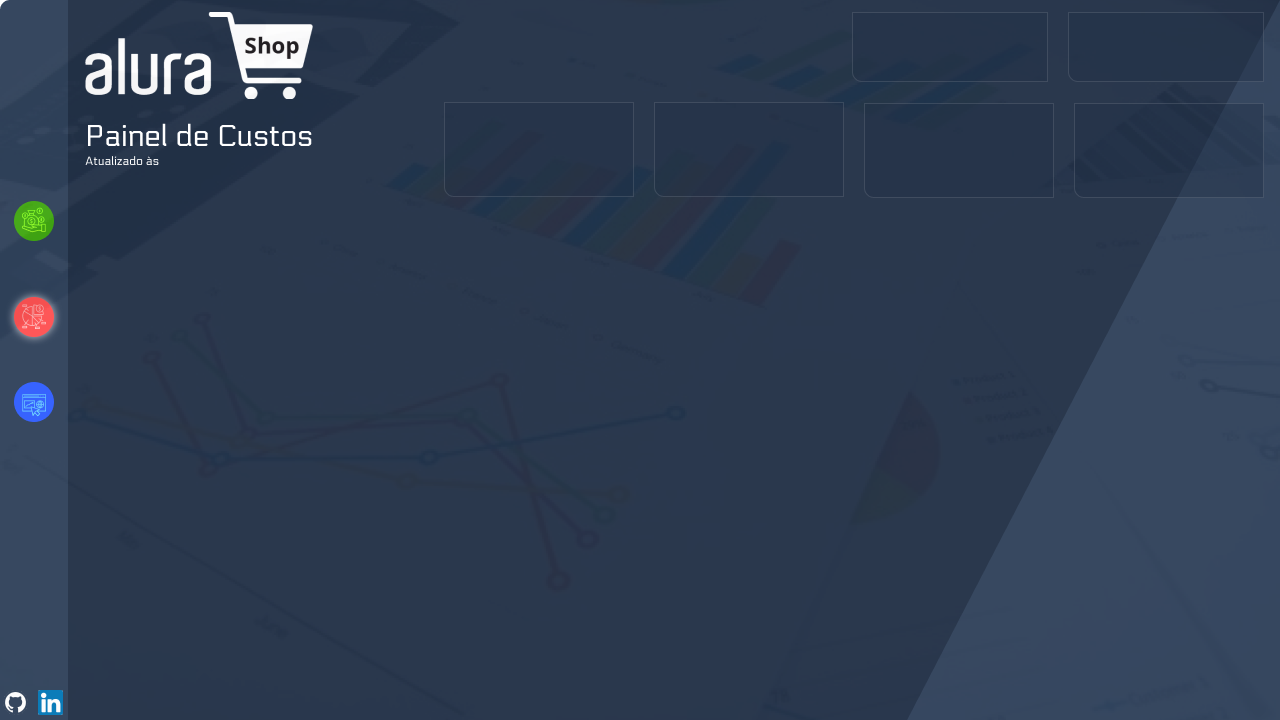

The dashboard page shown, as its layout file describes it:
{"tool":"powerbi","page":{"name":"Custos","canvas":[1280,720],"ordinal":2},"visuals":[{"type":"card","fields":{"Values":["Medidas.R$ Custo por Aquisição"]},"box":[445.4,102.3,186.5,91.4],"z":0},{"type":"card","fields":{"Values":["Medidas.R$ Custo por Clique"]},"box":[655.4,101.4,186.5,91.4],"z":1000},{"type":"card","fields":{"Values":["Medidas.R$ Custo Campanha"]},"box":[864.5,101.4,186.5,91.4],"z":2000},{"type":"card","fields":{"Values":["Medidas.R$ Custo Ticket Médio"]},"box":[1075.4,102.3,186.5,91.4],"z":3000},{"type":"slicer","fields":{"Values":["Idade_Genero.Gênero"]},"box":[1064.8,10,195.3,69.7],"z":4000},{"type":"clusteredColumnChart","title":"Custo do Ticket Médio por Dispositivo","fields":{"Category":["Dispositivos.Plataforma do dispositivo","Dispositivos.Plataforma","Dispositivos.Colocação"],"Y":["Medidas.R$ Custo Ticket Médio"]},"box":[482.3,218.9,380.9,481.3],"z":5000},{"type":"donutChart","title":"Custo da Campanha por Gênero","fields":{"Category":["Idade_Genero.Gênero"],"Y":["Medidas.R$ Custo Campanha"]},"box":[87.2,219.8,369.5,480.4],"z":6000},{"type":"TornadoChart1452517688218","title":"Custo do Ticket Médio por Faixa Etária","fields":{"Category":["Idade_Genero.Idade"],"Values":["Medidas.R$ Custo por Aquisição"]},"box":[884.9,218.9,380.9,481.3],"z":7000},{"type":"image","title":"Home","box":[7.6,10.4,55,46.4],"z":8000},{"type":"shape","box":[15.2,197.1,40.7,46.4],"z":9000},{"type":"shape","box":[14.2,378,40.7,46.4],"z":10000},{"type":"slicer","fields":{"Values":["Dispositivos.Plataforma do dispositivo"]},"box":[851.7,9.6,199.7,69.4],"z":11000},{"type":"image","box":[226.7,424.4,89.7,92.6],"z":11001}]}

Visuals, with their boxes on the page's 1280x720 design canvas (x1, y1, x2, y2). These are canvas units, not pixel positions in the 1280x720 screenshot, which may show the page scaled, cropped or inside an application window:
card - Medidas.R$ Custo por Aquisição: 445, 102, 632, 194
card - Medidas.R$ Custo por Clique: 655, 101, 842, 193
card - Medidas.R$ Custo Campanha: 864, 101, 1051, 193
card - Medidas.R$ Custo Ticket Médio: 1075, 102, 1262, 194
slicer - Idade_Genero.Gênero: 1065, 10, 1260, 80
"Custo do Ticket Médio por Dispositivo" clusteredColumnChart: 482, 219, 863, 700
"Custo da Campanha por Gênero" donutChart: 87, 220, 457, 700
"Custo do Ticket Médio por Faixa Etária" TornadoChart1452517688218: 885, 219, 1266, 700
"Home" image: 8, 10, 63, 57
shape: 15, 197, 56, 244
shape: 14, 378, 55, 424
slicer - Dispositivos.Plataforma do dispositivo: 852, 10, 1051, 79
image: 227, 424, 316, 517
